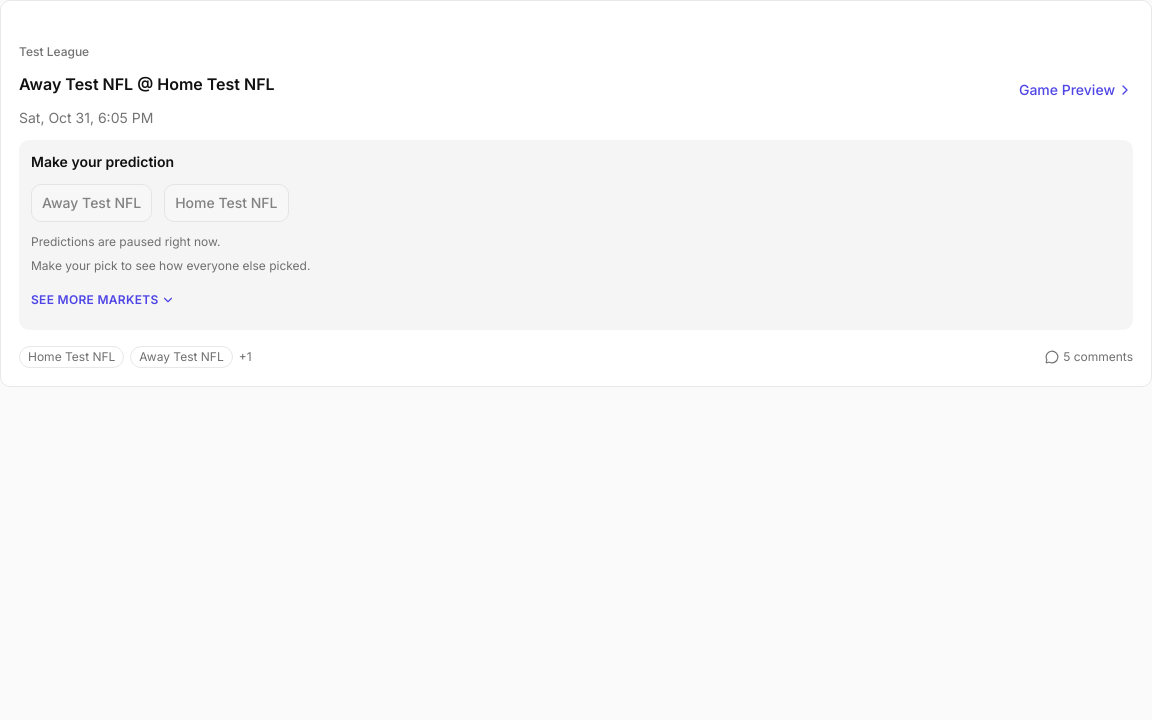
Scenario: GamePostCard › inline multi-market expansion (a signed-in viewer's feed) › expands inline on click — no navigation — under one 'Make your prediction' title, each Market under its own heading, never repeating the title
The image size is (1152, 720).
What coordinates should you click on to do the following:
click the button with aria-label "markets for"
I would click on:
 (103, 300)
Its box is x1=27 y1=282 x2=179 y2=318.
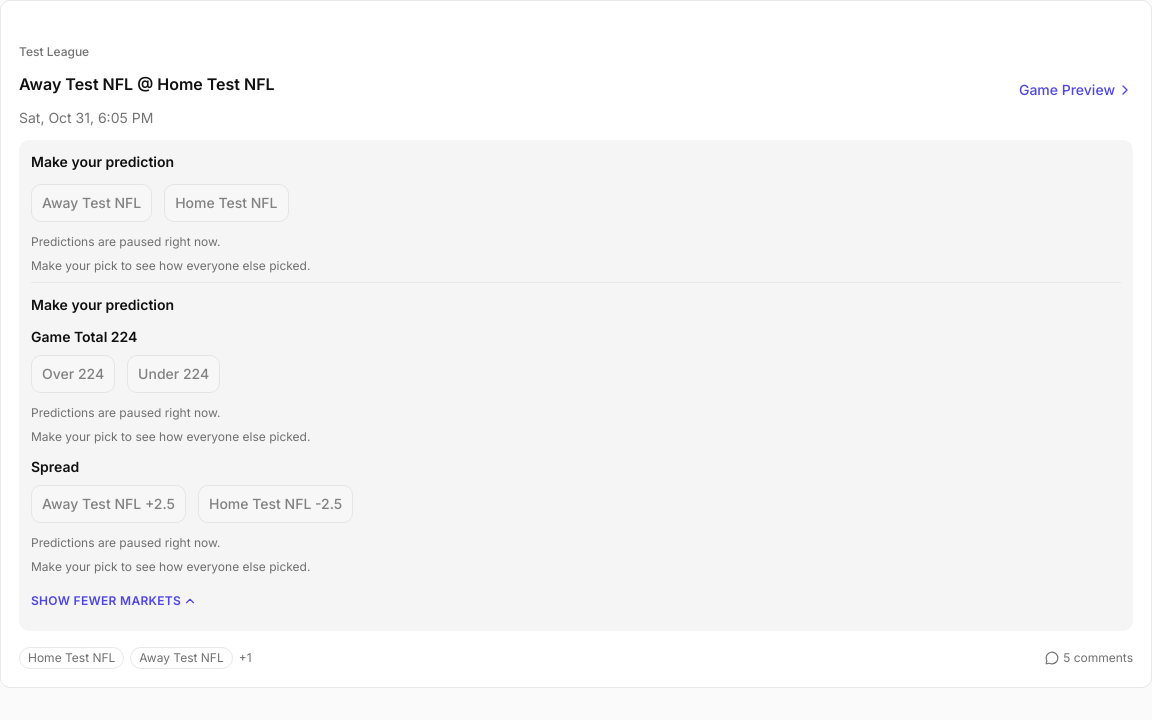
Result: the button with aria-label "markets for" is expanded at x1=27 y1=583 x2=201 y2=619
Result: the button with aria-label "markets for" reads "Show fewer markets" at x1=27 y1=583 x2=201 y2=619
Result: the text "Make your prediction" is shown once at x1=31 y1=296 x2=174 y2=313
